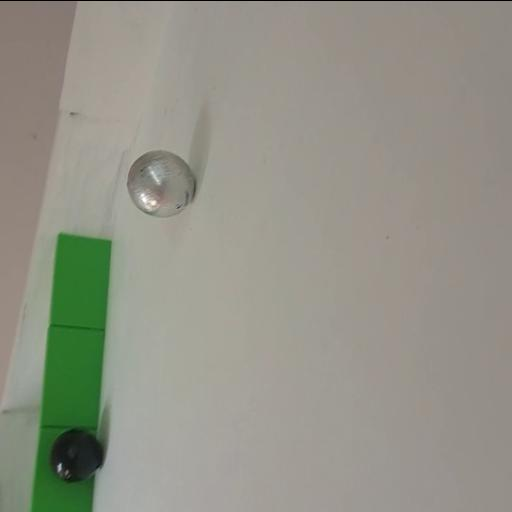alive: (126, 148, 196, 218)
dead: (48, 426, 104, 484)
